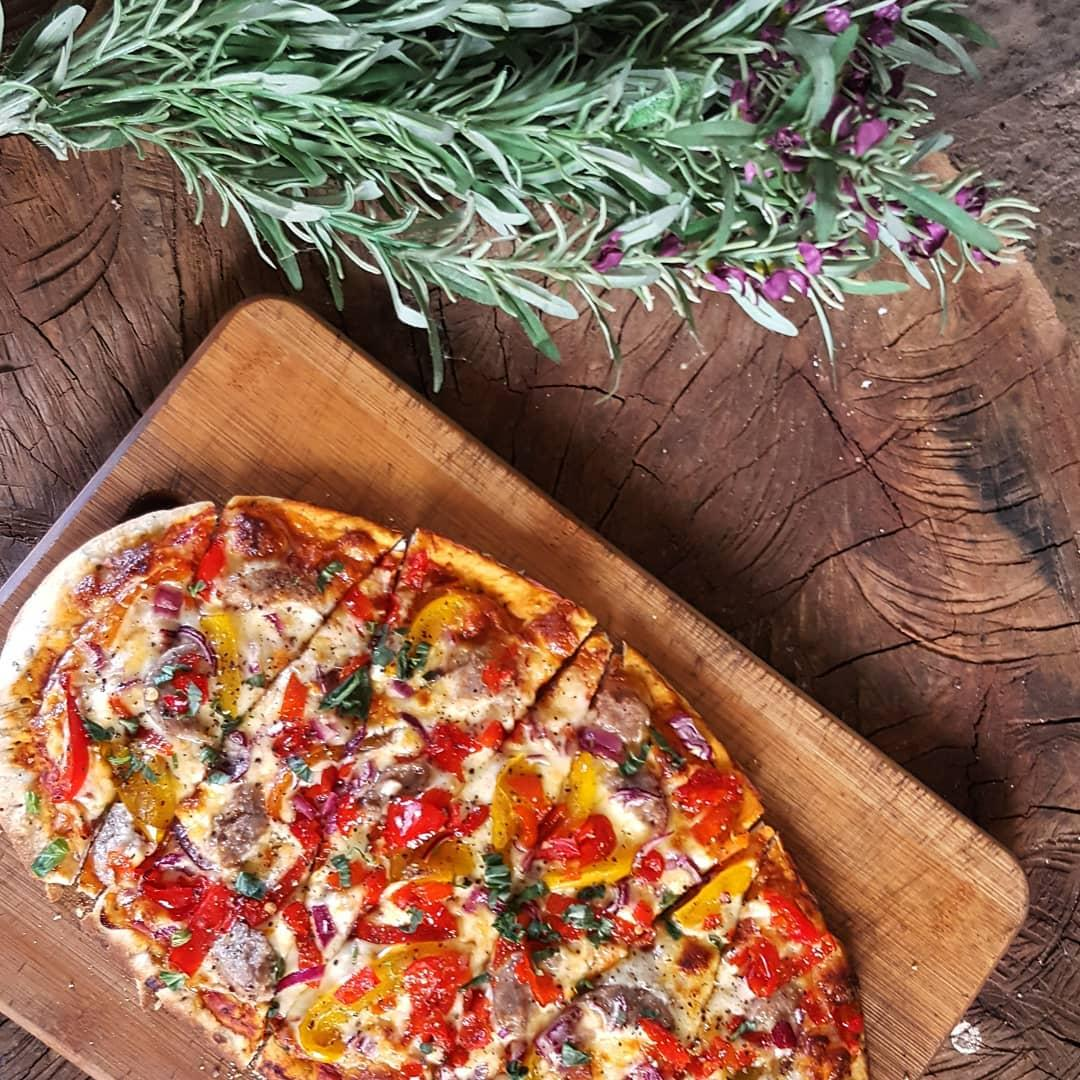Basil: (468, 841, 545, 927), (321, 661, 375, 714), (371, 638, 429, 675), (33, 838, 69, 879)
Onion: (580, 985, 673, 1034), (149, 815, 214, 869), (329, 727, 374, 792), (534, 1003, 583, 1059), (616, 785, 675, 831), (666, 714, 712, 770), (290, 783, 344, 830), (170, 622, 222, 666), (572, 722, 626, 762), (273, 966, 329, 1001), (147, 583, 185, 621), (307, 906, 338, 943)
Pizza: (0, 493, 879, 1080)
Tomatoes: (503, 888, 639, 992), (273, 770, 344, 967), (736, 888, 831, 1009), (501, 773, 612, 869), (133, 866, 227, 962), (403, 956, 487, 1060), (373, 786, 469, 855), (646, 1021, 751, 1080), (668, 766, 744, 847), (41, 681, 90, 797), (388, 881, 469, 935), (276, 671, 315, 730)
